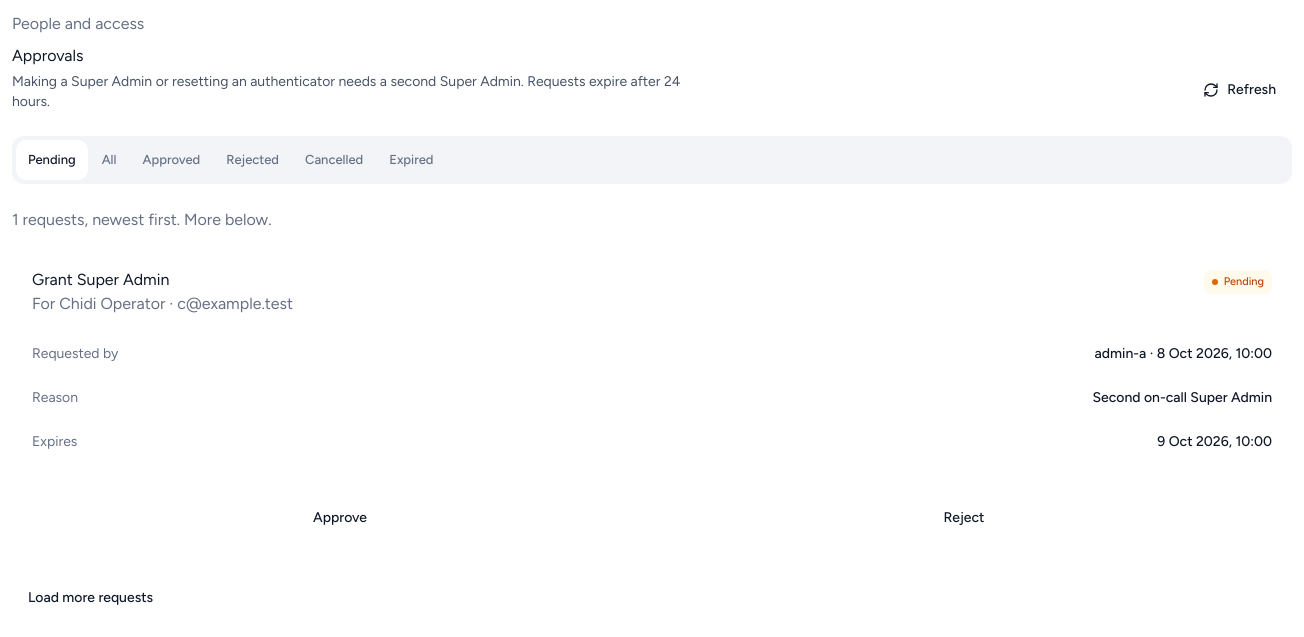
Test case: two-person approvals › drops a page that arrives after the status changed, and cancels its request
Check: the element that starts with "Grant Super Admin" is shown, box [12,248,1292,560]
Step 1. Click the button "Load more requests" → [91, 598], box [12,576,169,620]
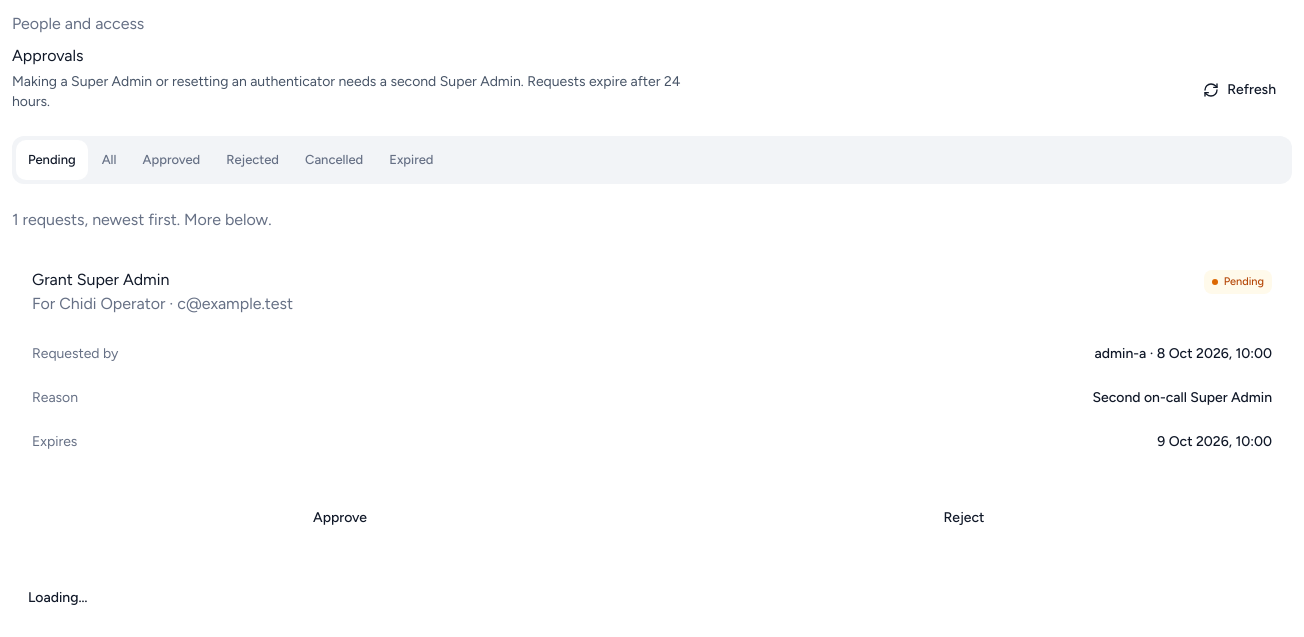
Step 2. Click the button "Approved" → [171, 160], box [130,140,212,180]
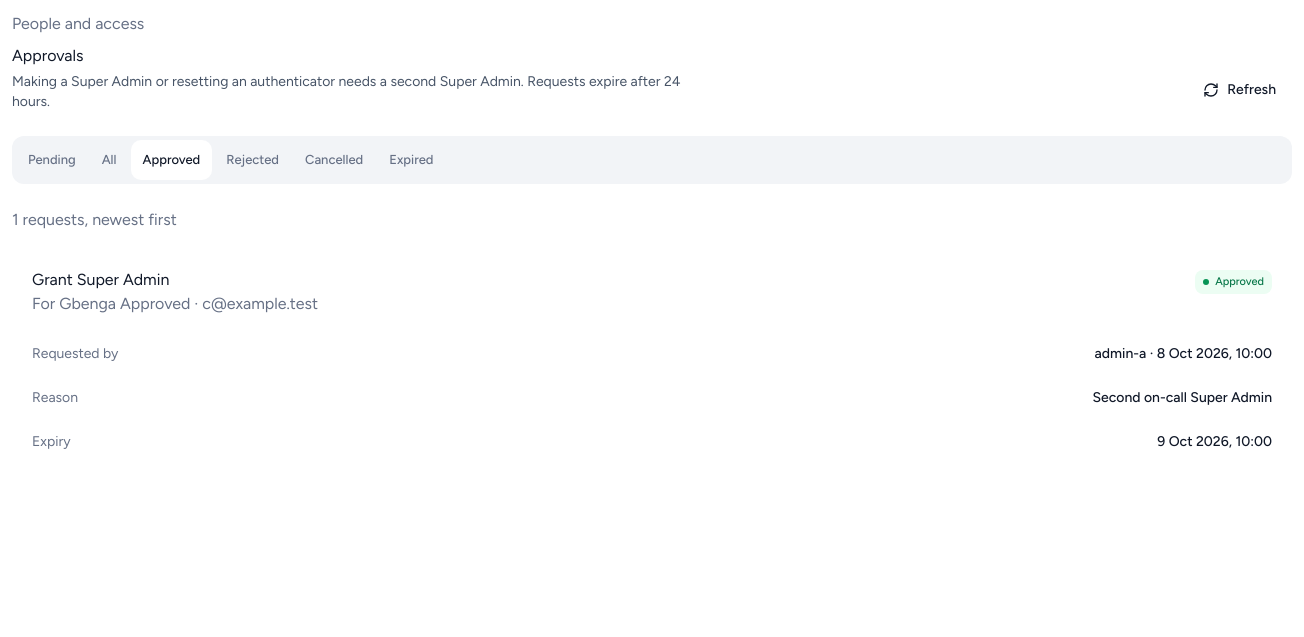
Check: the text "1 requests, newest first" is shown, box [12,210,177,229]
Check: the text "For Gbenga Approved · c@example.test" is shown, box [32,292,318,316]
